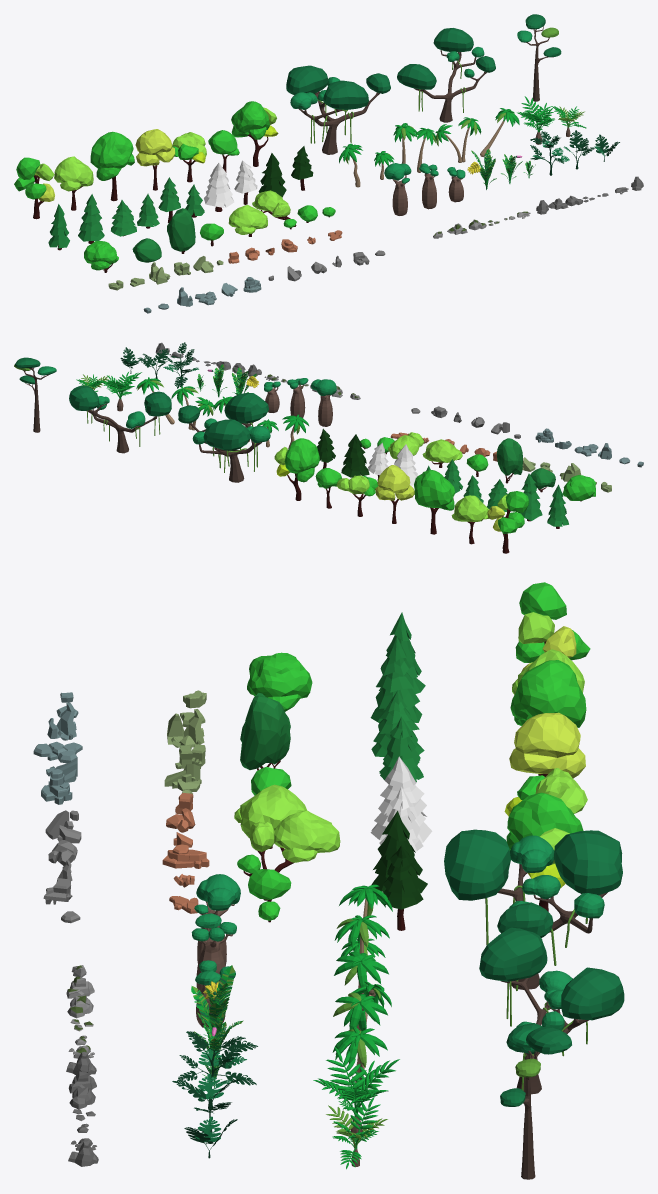
Rendered from uploads_files_3638092_LOW_POLY_set.fbx.
3 views of the same model, one above another, from view 1: azimuth 30°, elevation 25°; view 2: azimuth 150°, elevation 25°; view 3: azimuth 270°, elevation 25° (orthographic). The views are drawn at different scales.
Parts seen in each view (by area): view 1: tree_1, tree_2, tree3_Icosphere.003, tree4_Icosphere.002, tree_3, tree3_Icosphere.006, tree2_Icosphere.004, tree6_Icosphere.009, conifer7_Cylinder.002, tree_4, tree2_Icosphere.006, conifer2_Cylinder.001 (+17 smaller); view 2: tree_1, tree_2, tree3_Icosphere.003, tree3_Icosphere.006, tree4_Icosphere.002, tree_3, tree6_Icosphere.009, tree2_Icosphere.004, tree_4, conifer1_Cylinder.003, tree3_Icosphere.007, tree2_Icosphere.006 (+20 smaller); view 3: tree_1, tree_2, tree4_Icosphere.002, tree3_Icosphere.003, tree_3, tree6_Icosphere.009, tree3_Icosphere.007, tree2_Icosphere.007, tree3_Icosphere.006, palm_7, conifer2_Cylinder.001, tree2_Icosphere.006 (+23 smaller).
Boxes of the visible parts, x1,y1,x2,y2 form: tree_1: (286,65,390,154); tree_2: (397,28,495,122); tree3_Icosphere.003: (90,131,134,180); tree4_Icosphere.002: (135,129,175,166); tree_3: (517,14,561,101); tree3_Icosphere.006: (231,101,269,139); tree2_Icosphere.004: (54,156,93,191); tree6_Icosphere.009: (167,208,195,251); conifer7_Cylinder.002: (204,163,234,211); tree_4: (384,163,411,215); tree2_Icosphere.006: (228,205,267,234); conifer2_Cylinder.001: (78,194,104,243); tree_1: (178,393,270,482); tree_2: (69,385,171,453); tree3_Icosphere.003: (414,470,454,510); tree3_Icosphere.006: (284,438,319,482); tree4_Icosphere.002: (375,465,414,500); tree_3: (14,357,56,432); tree6_Icosphere.009: (496,438,522,475); tree2_Icosphere.004: (451,495,489,521); tree_4: (311,379,336,426); conifer1_Cylinder.003: (341,434,369,477); tree3_Icosphere.007: (563,475,595,500); tree2_Icosphere.006: (422,439,462,462); tree_1: (444,829,622,990); tree_2: (479,927,624,1094); tree4_Icosphere.002: (509,712,585,778); tree3_Icosphere.003: (510,660,586,727); tree_3: (500,1026,571,1179); tree6_Icosphere.009: (240,693,290,769); tree3_Icosphere.007: (247,652,312,711); tree2_Icosphere.007: (274,810,340,862); tree3_Icosphere.006: (506,792,583,850); palm_7: (313,1047,399,1140); conifer2_Cylinder.001: (370,637,422,722); tree2_Icosphere.006: (234,784,306,837).
Bounding box in the file's own units: 18084 × 2542 × 8875.
